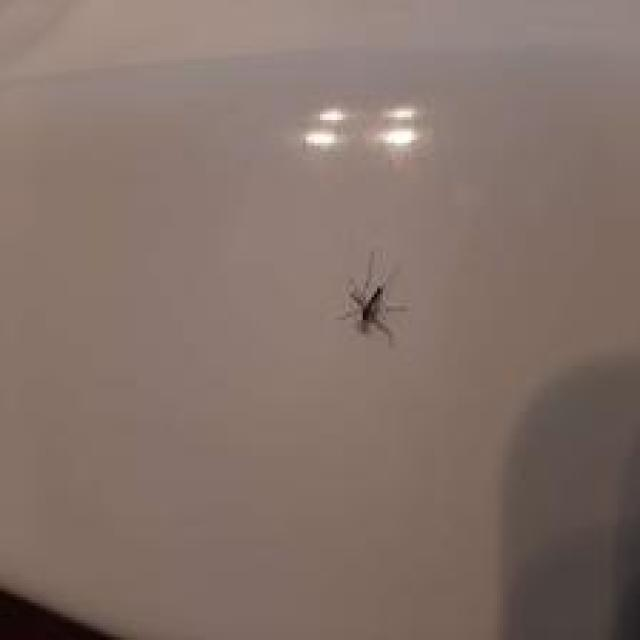Aedes albopictus: (337, 250, 409, 347)
